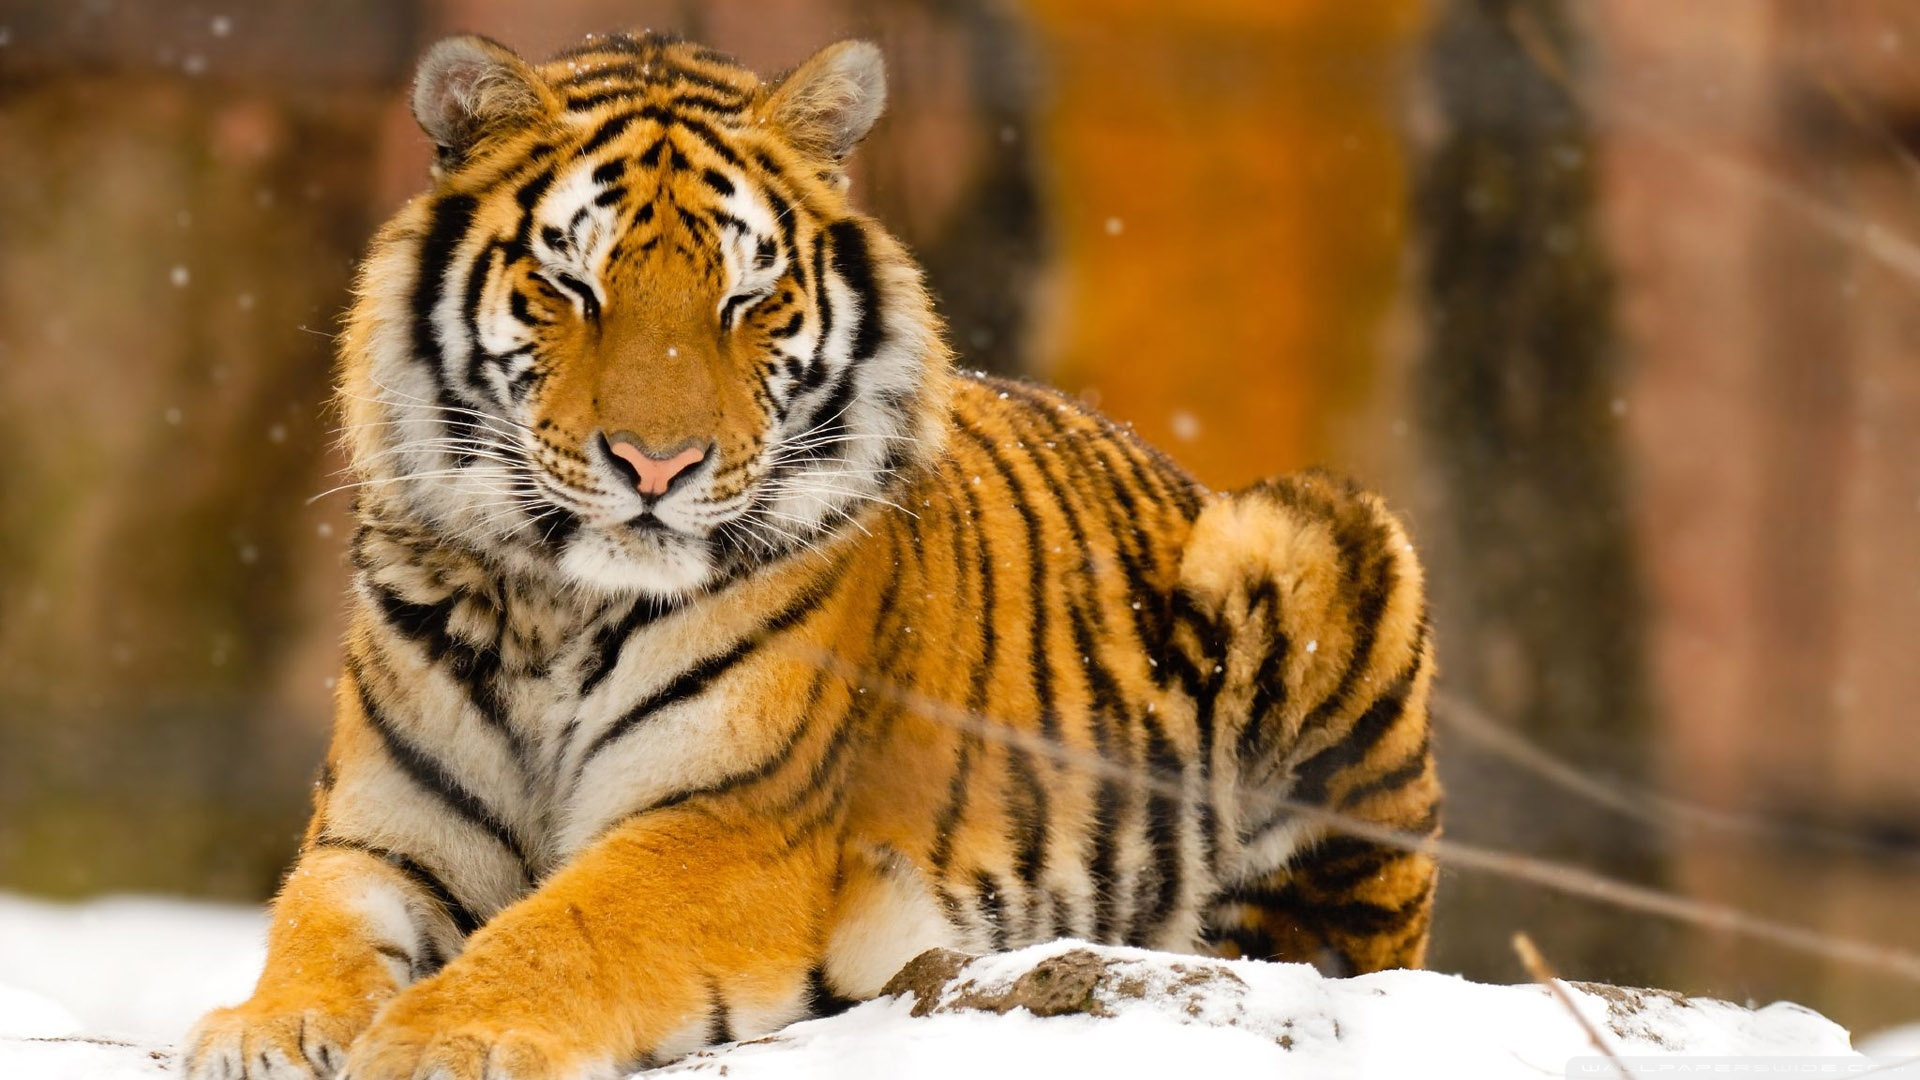tiger: (145, 24, 1447, 986)
